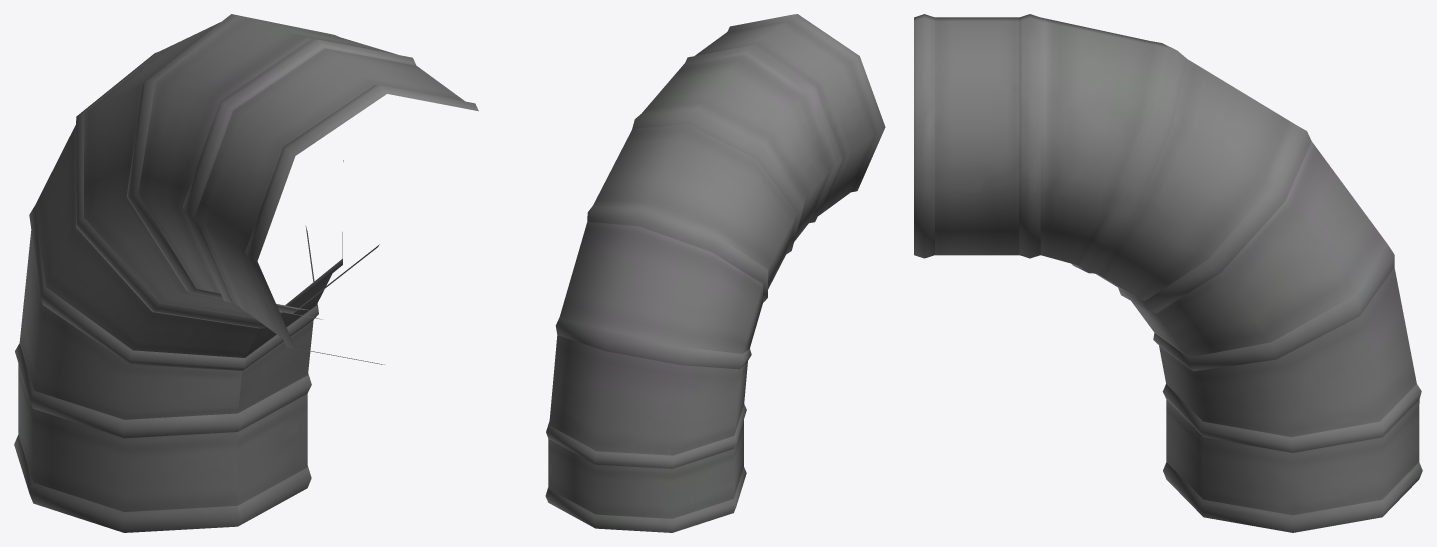
The picture shows the model from 3 angles, left to right: view 1: azimuth 30°, elevation 25°; view 2: azimuth 150°, elevation 25°; view 3: azimuth 270°, elevation 25°; orthographic projection. The views are drawn at different scales.
Parts seen in each view (by area): view 1: body0_model0_lod0_mesh0; view 2: body0_model0_lod0_mesh0; view 3: body0_model0_lod0_mesh0.
Boxes of the visible parts, <box> form: body0_model0_lod0_mesh0: <box>14,14,478,532</box>; body0_model0_lod0_mesh0: <box>545,14,885,532</box>; body0_model0_lod0_mesh0: <box>914,14,1422,532</box>.
Bounding box in the file's own units: 16.49 × 32.24 × 32.23.
Materials: 1 (1 with a texture image).
